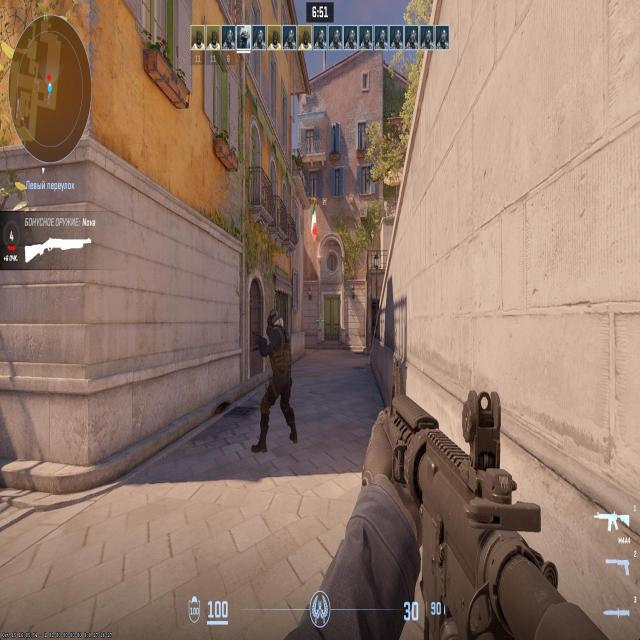CT: (263, 316, 293, 443)
CT_heat: (271, 318, 279, 334)
